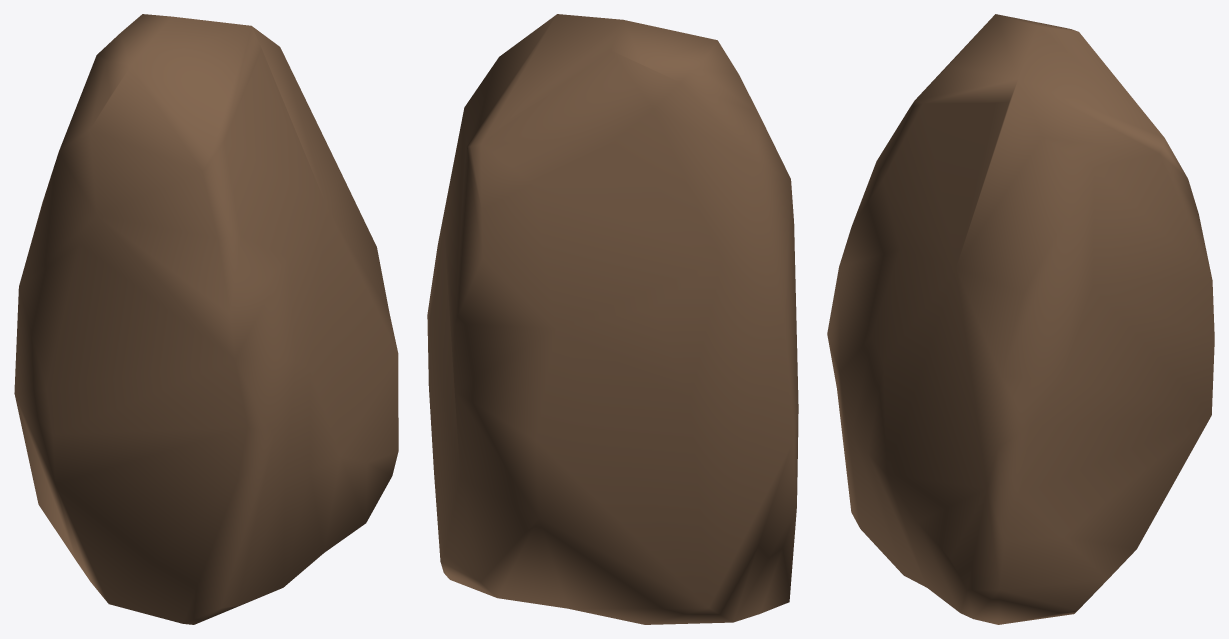
The model's file is SM_rock06_low.fbx.
3 renders of one model, left to right at view 1: azimuth 30°, elevation 25°; view 2: azimuth 150°, elevation 25°; view 3: azimuth 270°, elevation 25°, orthographic. The views are drawn at different scales.
Visible parts, largest first — view 1: polySurface535; view 2: polySurface535; view 3: polySurface535.
Boxes of the visible parts, <box> form: polySurface535: <box>14,14,398,624</box>; polySurface535: <box>427,14,798,624</box>; polySurface535: <box>827,14,1214,624</box>.
Bounding box in the file's own units: 30.83 × 44.73 × 29.32.
